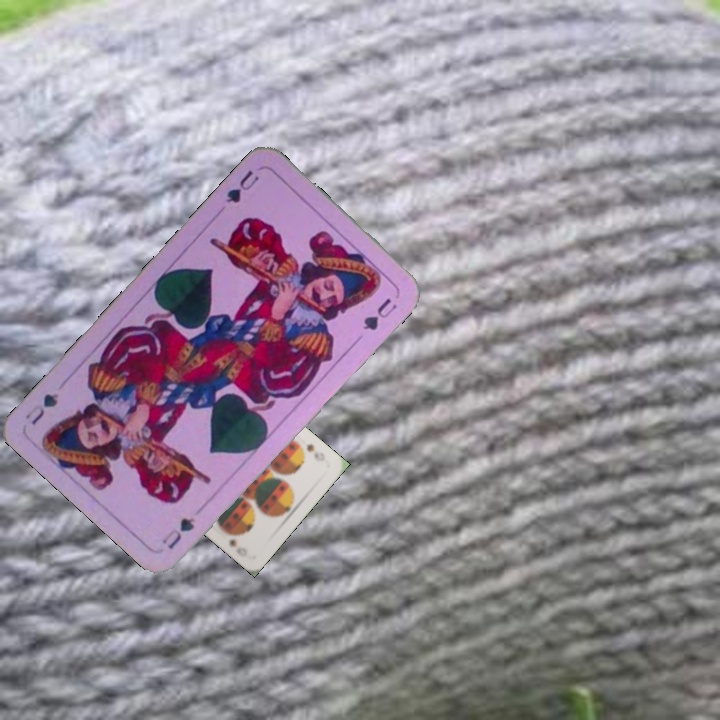GU: (221, 166, 262, 206), (157, 513, 197, 552)
S9: (302, 440, 328, 464)
